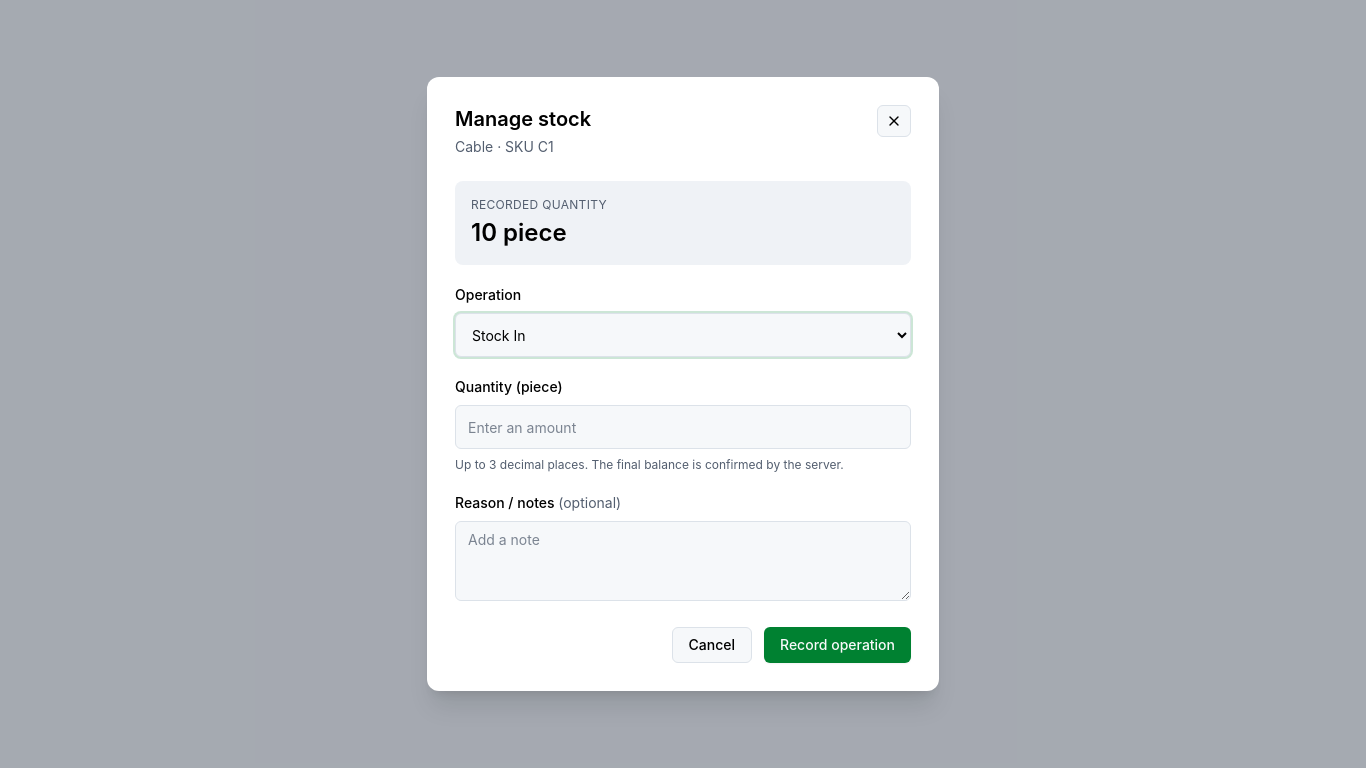
StockOperationDialog › prevents rapid double submission
Type "1" into the field labelled "Quantity (piece)".
click(683, 427); type("1")  # box [455,405,911,449]
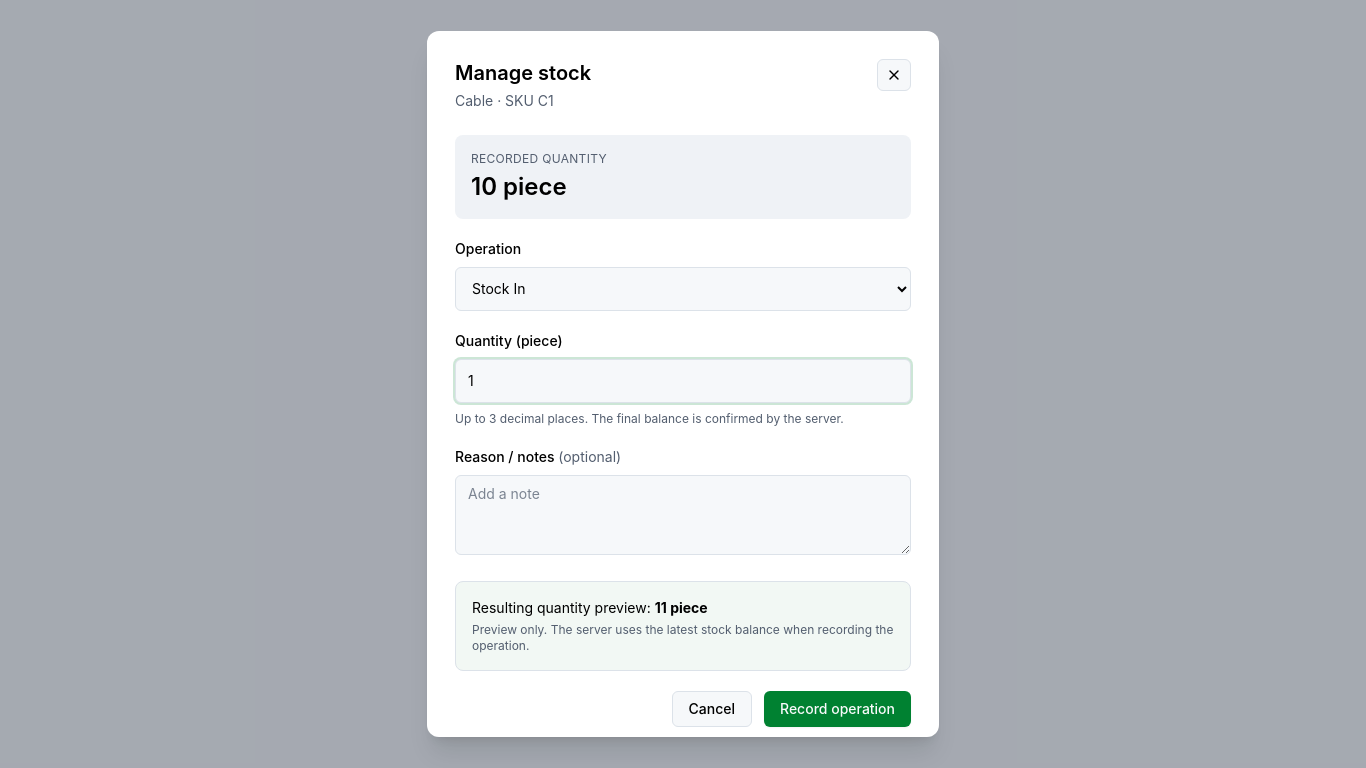
Double-click the button "Record operation".
double_click(838, 709)  # box [764,691,911,727]
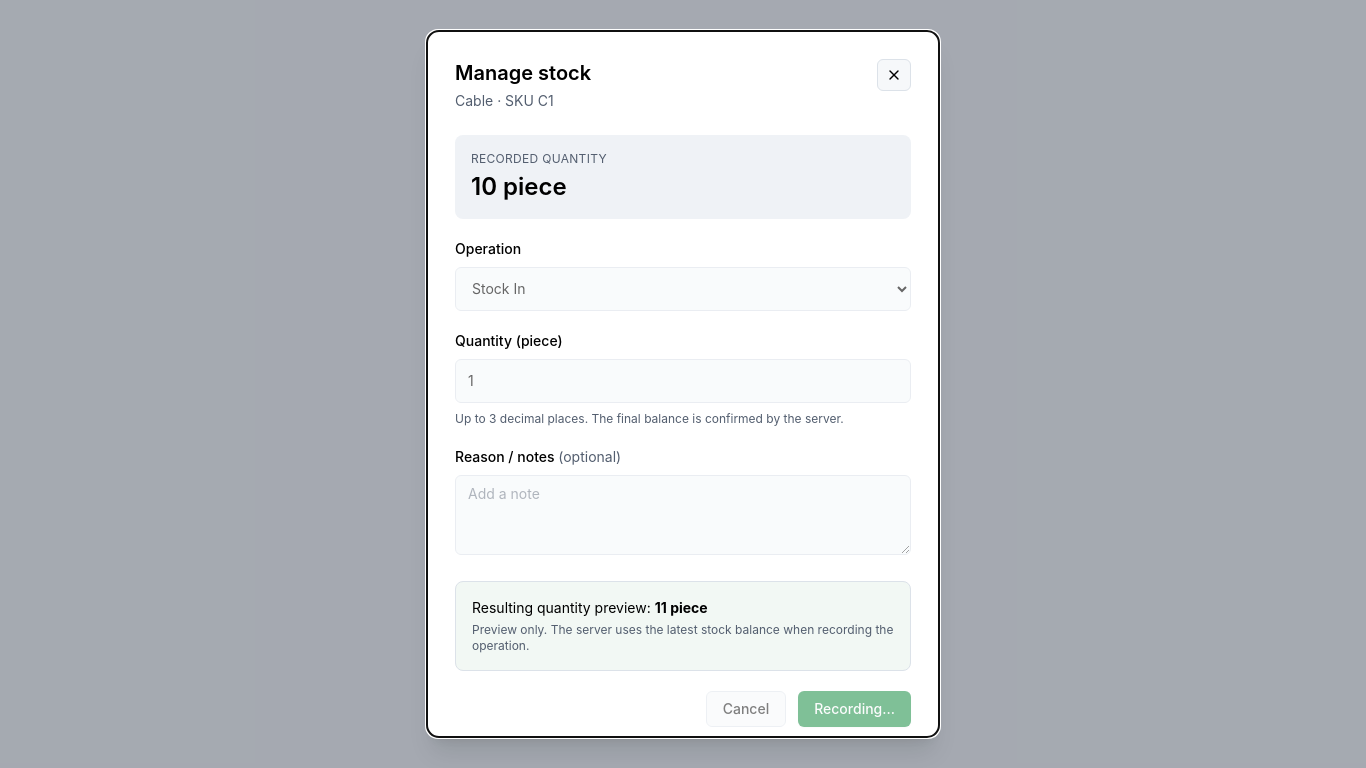
expect the button "Recording…" is disabled: met, box [798,691,911,727]
